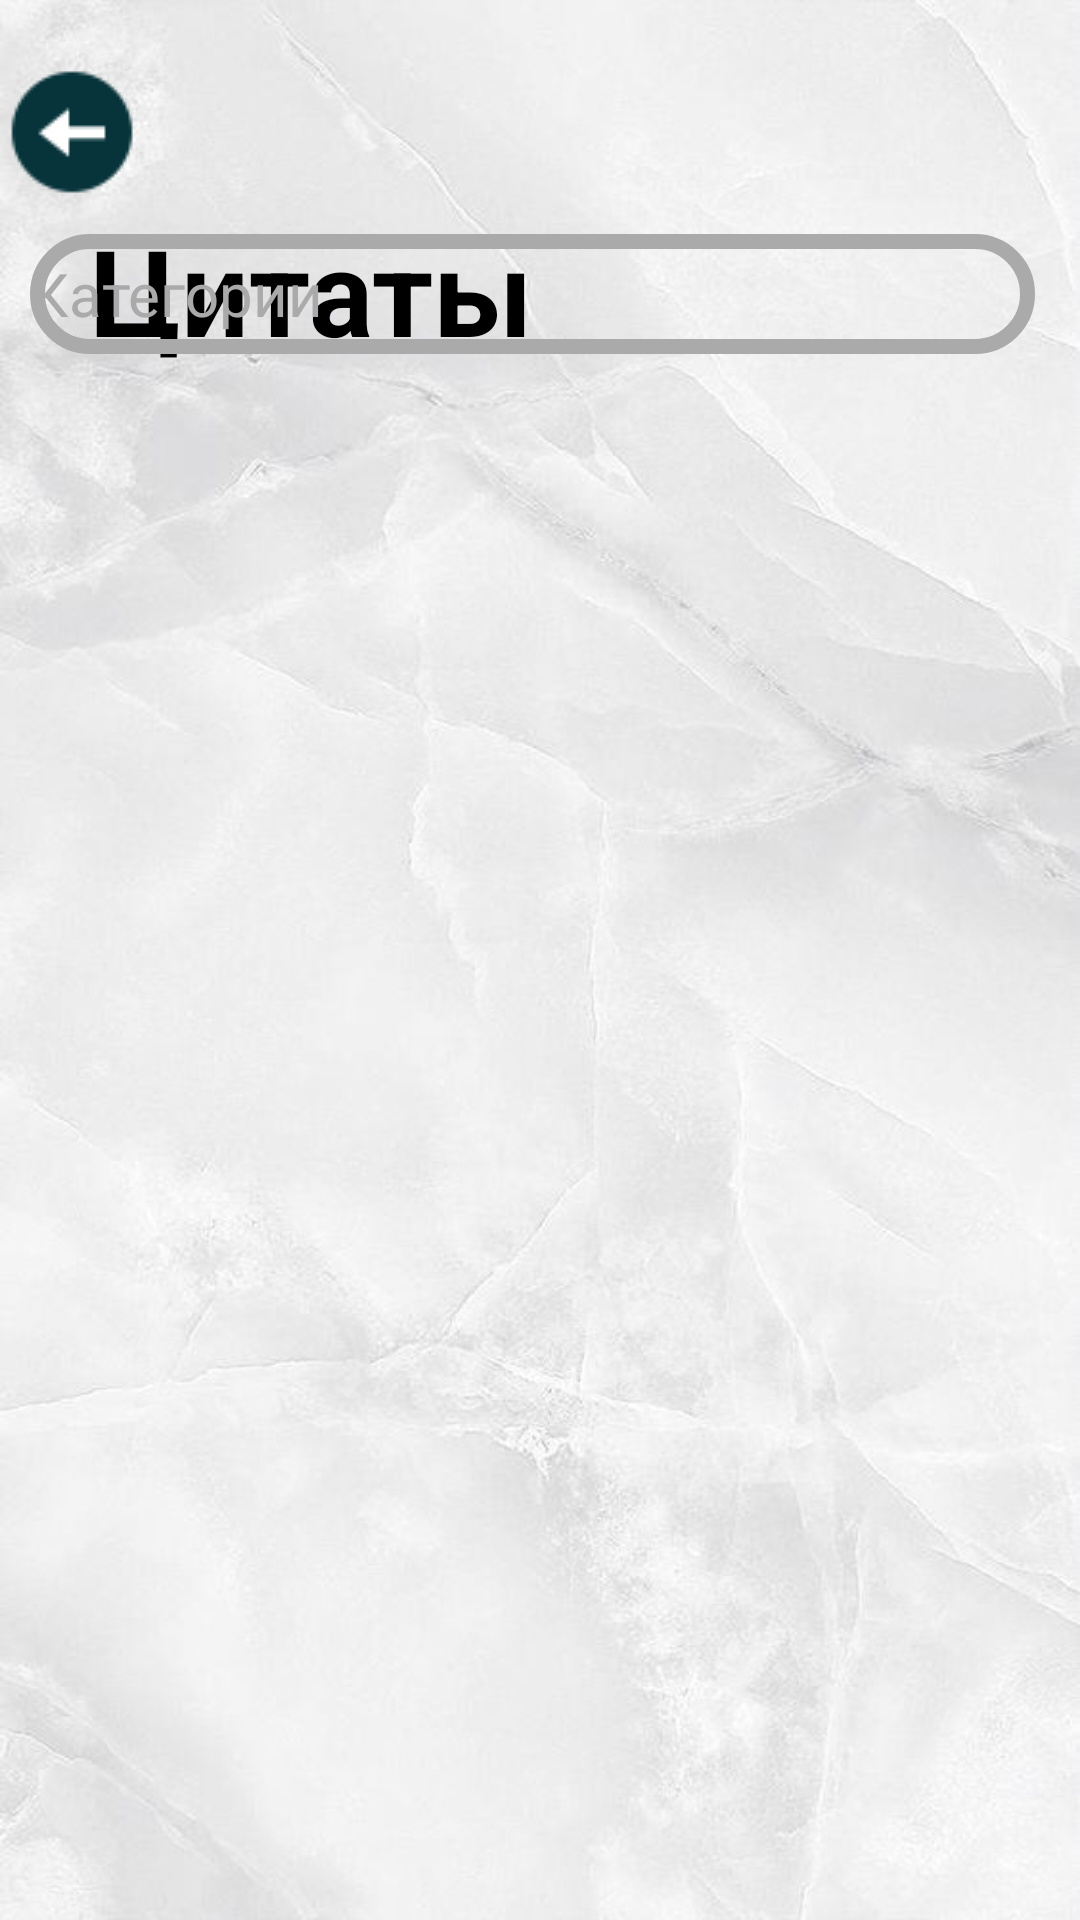

Locate icon controls on the screen. Image size 1080px×1920px, boxes as (x1, y1, x2, y2).
back: (11, 71, 133, 193)
